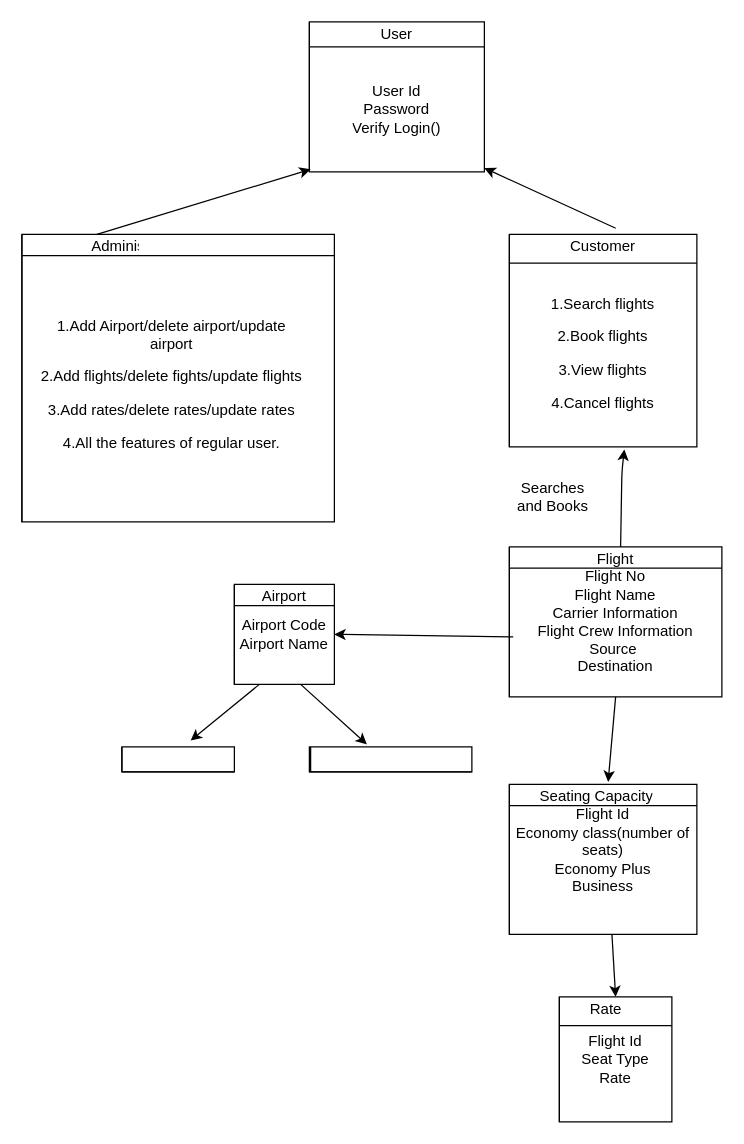
The diagram is 744 pixels wide and 1144 high, and some of its shapes have lost their labels. Here are the shapes that lost their labels. From the top down, the centre of each, then its label:
the point at 177,759: International Airport
the point at 390,759: Domestic Airport
